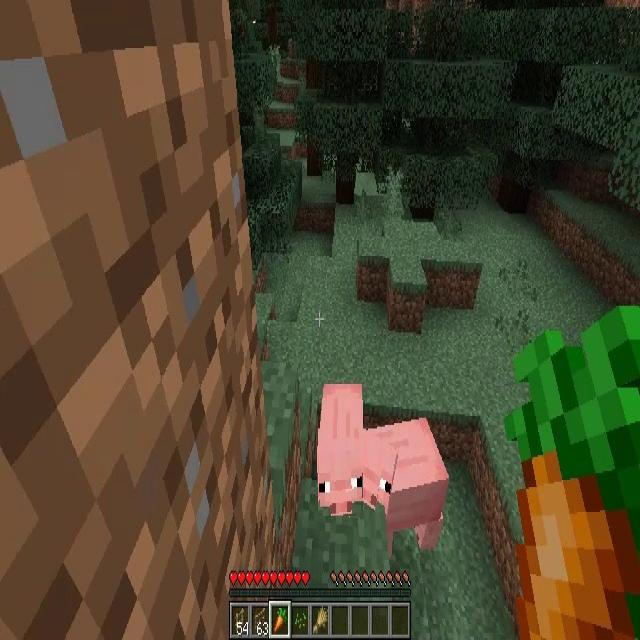pig: (365, 415, 447, 547), (318, 381, 363, 516)
